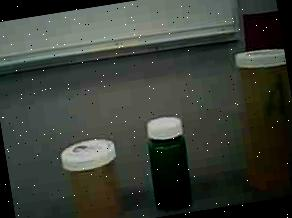Bottle A: (225, 41, 292, 200)
Bottle B: (51, 127, 135, 218)
Bottle C: (137, 104, 210, 218)
